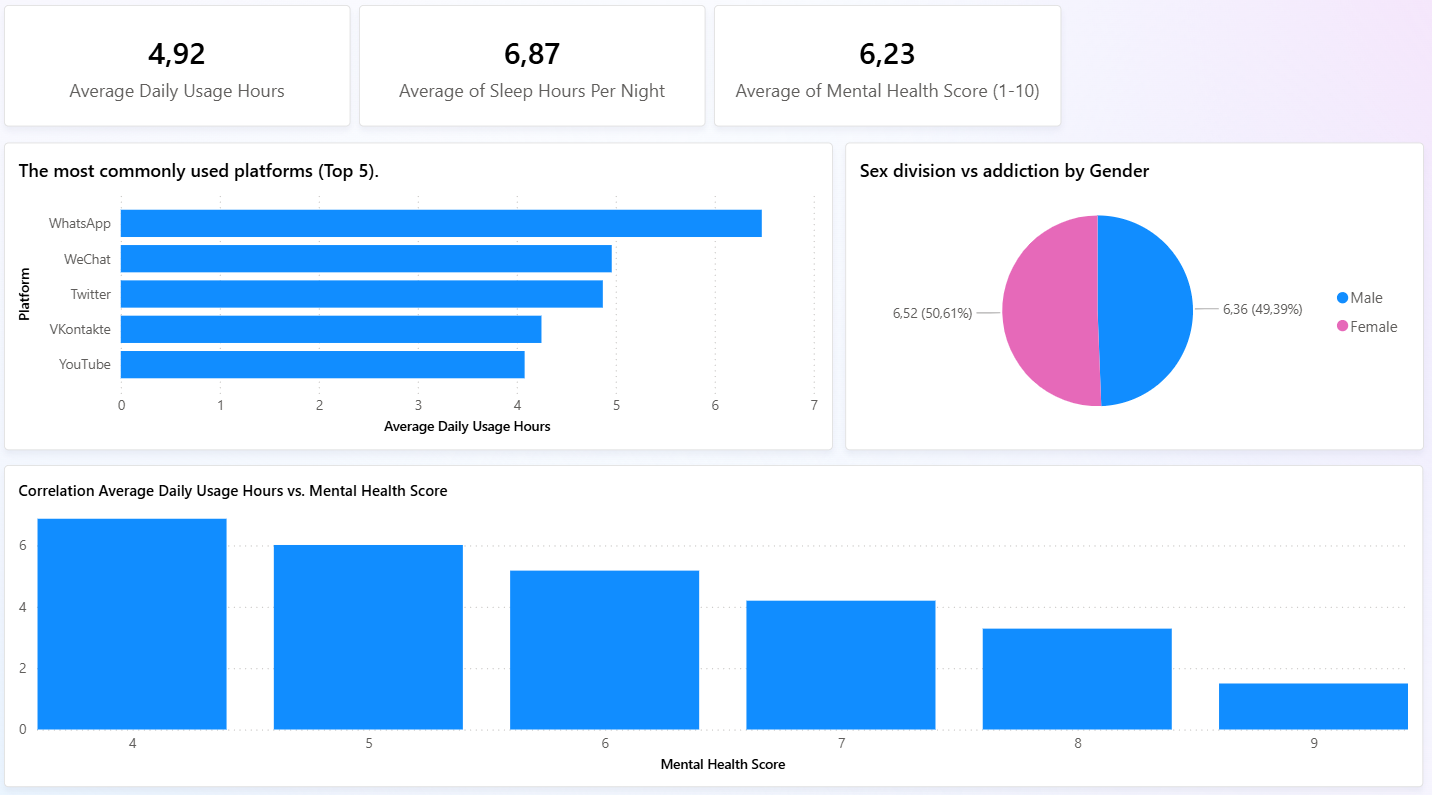

What the dashboard file says about the page in this screenshot:
{"tool":"powerbi","page":{"name":"Overview","canvas":[1280,720],"ordinal":0},"visuals":[{"type":"card","fields":{"Values":["Avg(Students Social Media Addiction.Avg_Daily_Usage_Hours)"]},"box":[9.4,9.4,308,107.7],"z":0},{"type":"card","fields":{"Values":["Avg(Students Social Media Addiction.Sleep_Hours_Per_Night)"]},"box":[324,9.4,308.1,107.7],"z":1000},{"type":"card","fields":{"Values":["Avg(Students Social Media Addiction.Mental_Health_Score)"]},"box":[640.5,9.4,309,107.7],"z":2000},{"type":"barChart","title":"The most commonly used platforms (Top 5).","fields":{"Category":["Students Social Media Addiction.Most_Used_Platform"],"Y":["Avg(Students Social Media Addiction.Avg_Daily_Usage_Hours)"]},"box":[9.4,131.1,736.9,273.4],"z":3000},{"type":"pieChart","fields":{"Category":["Students Social Media Addiction.Gender"],"Y":["Avg(Students Social Media Addiction.Addicted_Score)"]},"box":[756.6,131.1,514.1,273.4],"z":4000},{"type":"columnChart","title":"Correlation Average Daily Usage Hours vs. Mental Health Score","fields":{"Category":["Students Social Media Addiction.Mental_Health_Score"],"Y":["Avg(Students Social Media Addiction.Avg_Daily_Usage_Hours)"]},"box":[9.4,417.6,1261.3,286.5],"z":5000}]}

Visuals, with their boxes in screenshot pixels (x1, y1, x2, y2), scaled from the page's 1280x720 canvas onto the 1432x795 screenshot:
card - Avg(Students Social Media Addiction.Avg_Daily_Usage_Hours): <bbox>11, 10, 355, 129</bbox>
card - Avg(Students Social Media Addiction.Sleep_Hours_Per_Night): <bbox>362, 10, 707, 129</bbox>
card - Avg(Students Social Media Addiction.Mental_Health_Score): <bbox>717, 10, 1062, 129</bbox>
"The most commonly used platforms (Top 5)." barChart: <bbox>11, 145, 835, 447</bbox>
pieChart - Students Social Media Addiction.Gender x Avg(Students Social Media Addiction.Addicted_Score): <bbox>846, 145, 1422, 447</bbox>
"Correlation Average Daily Usage Hours vs. Mental Health Score" columnChart: <bbox>11, 461, 1422, 777</bbox>
